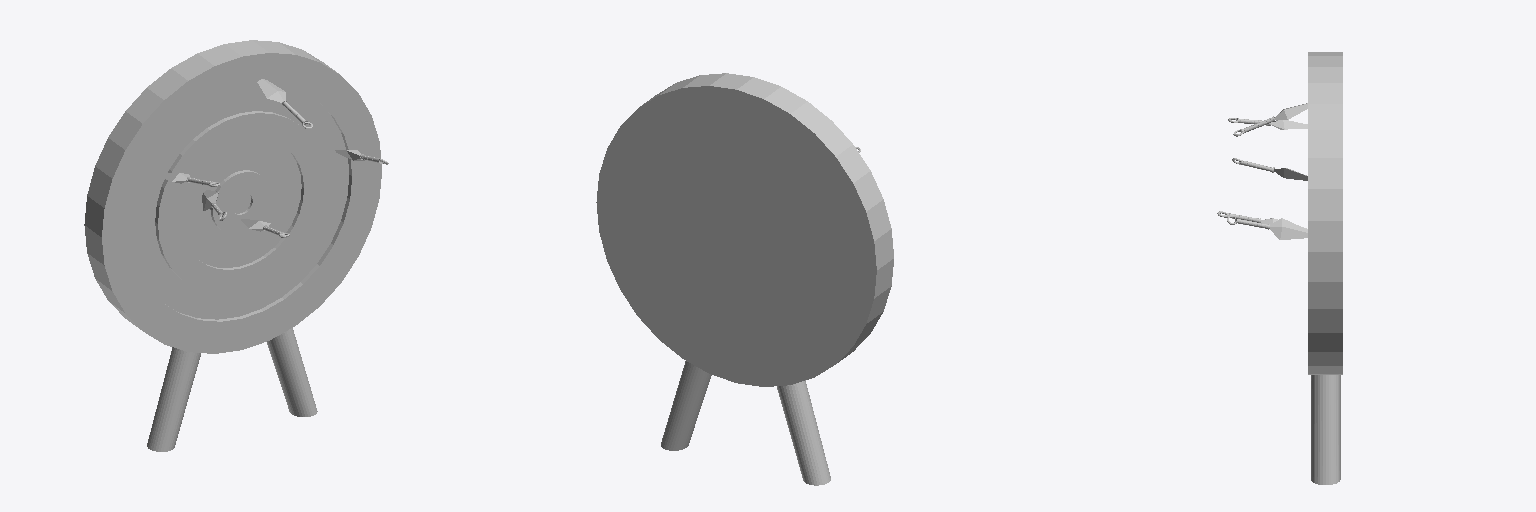
Rendered from ninjatools.obj.
3 views of the same model, side by side, from view 1: azimuth 30°, elevation 25°; view 2: azimuth 150°, elevation 25°; view 3: azimuth 270°, elevation 25° (orthographic).
Visible parts, largest first — view 1: target_Circle.003, kunai_Circle.001; view 2: target_Circle.003; view 3: target_Circle.003, kunai_Circle.001.
Part boxes in pixels (x1,y1,x2,y2): target_Circle.003: (84,40,381,451); kunai_Circle.001: (156,79,388,237); target_Circle.003: (596,73,893,485); target_Circle.003: (1308,52,1342,484); kunai_Circle.001: (1217,103,1307,239).
Size of the model in its own units: 2 by 2.58 by 0.7733.